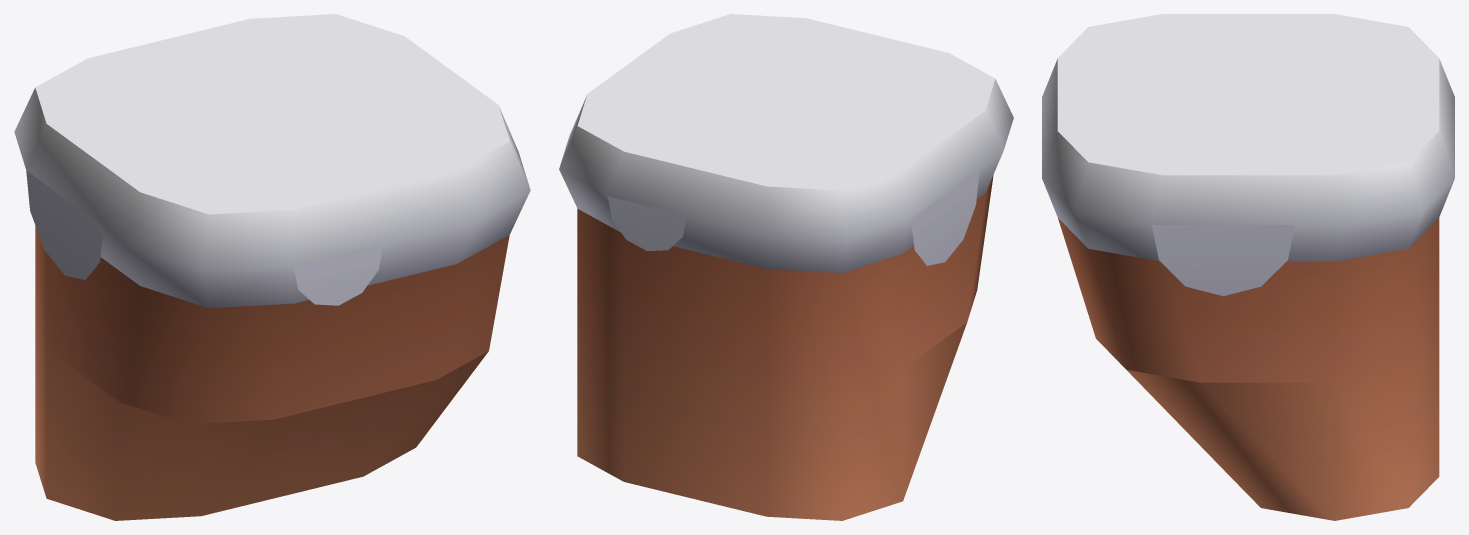
Rendered from block-snow-overhang-edge.glb.
3 renders of one model, left to right at view 1: azimuth 30°, elevation 25°; view 2: azimuth 150°, elevation 25°; view 3: azimuth 270°, elevation 25°, orthographic. The views are drawn at different scales.
Visible parts, largest first — view 1: block-snow-overhang-edge; view 2: block-snow-overhang-edge; view 3: block-snow-overhang-edge.
Boxes of the visible parts, x1=… form: block-snow-overhang-edge: x1=14, y1=14, x2=530, y2=520; block-snow-overhang-edge: x1=559, y1=14, x2=1013, y2=520; block-snow-overhang-edge: x1=1042, y1=14, x2=1454, y2=520.
Bounding box in the file's own units: 1.08 × 1 × 1.08.
1 material, 1 textured.
